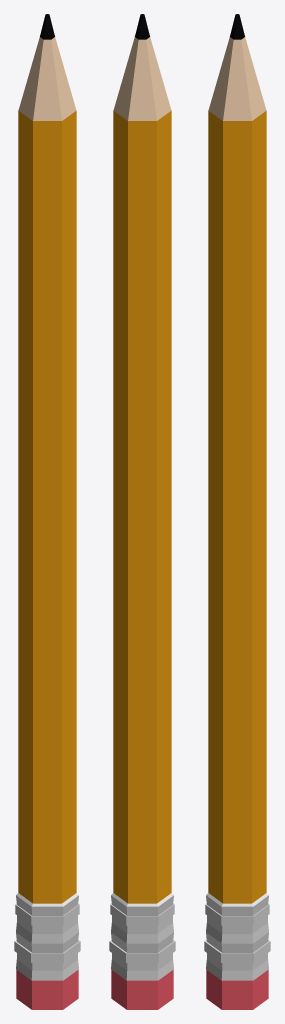
The model's file is Pencil.fbx.
3 renders of one model, left to right at view 1: azimuth 30°, elevation 25°; view 2: azimuth 150°, elevation 25°; view 3: azimuth 330°, elevation 25°, orthographic.
Visible parts, largest first — view 1: Pencil; view 2: Pencil; view 3: Pencil.
Boxes of the visible parts, x1,y1,x2,y2 form: Pencil: (14,14,80,1009); Pencil: (109,14,175,1009); Pencil: (204,14,270,1009).
Size of the model in its own units: 23.17 by 438 by 26.75.
